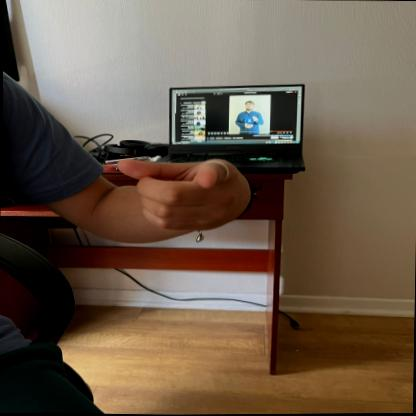X: (114, 150, 259, 230)
